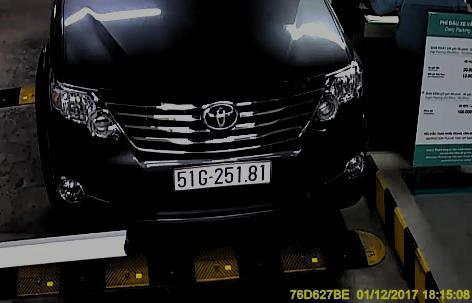License_Plate: (172, 159, 275, 194)
